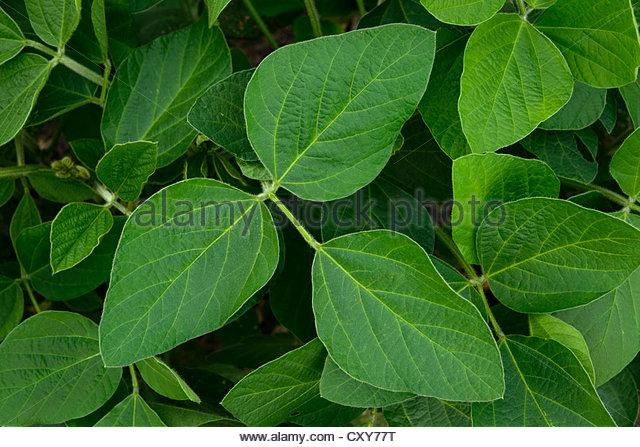Soyabean leaf: (236, 24, 436, 204), (96, 175, 278, 371), (308, 228, 506, 403)
